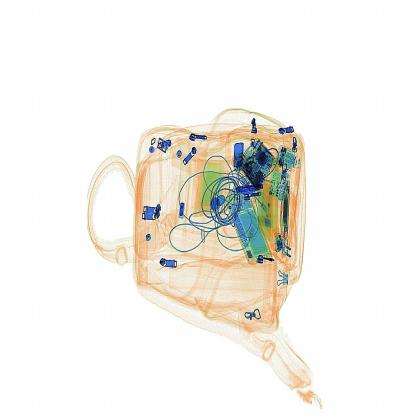knife: (232, 178, 269, 200)
